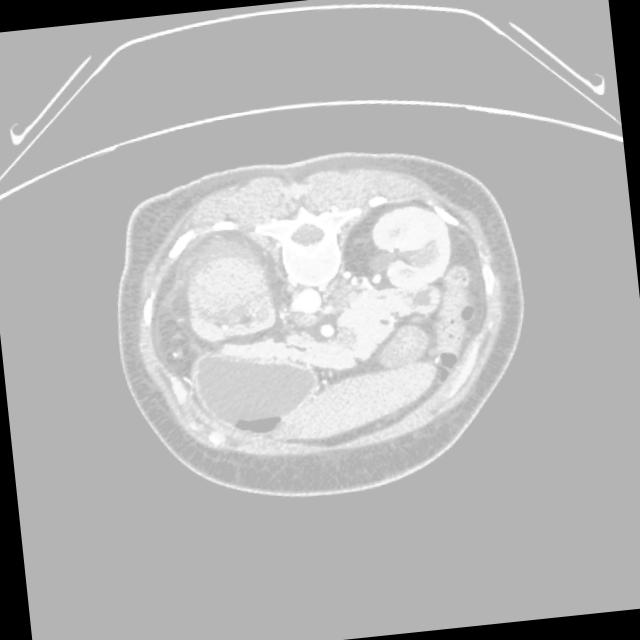TUMOR: (135, 261, 540, 450)
